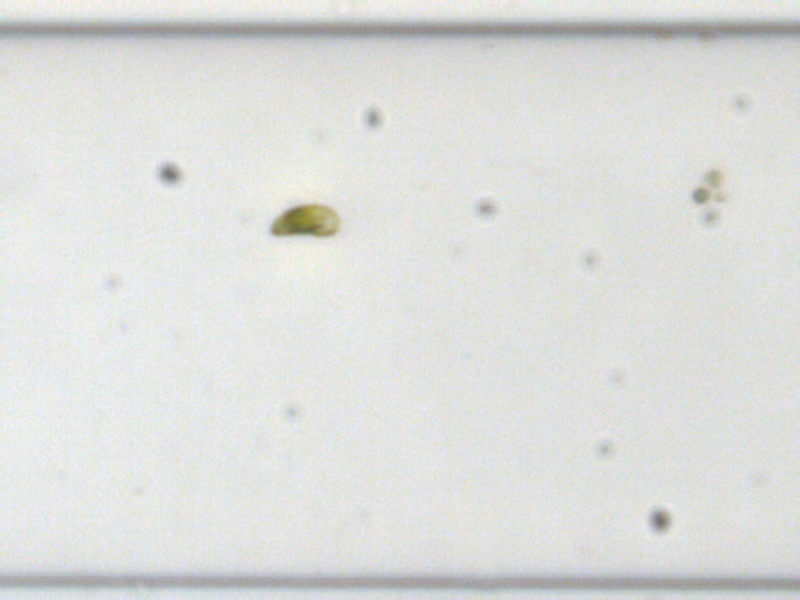Chlorella: (703, 166, 724, 184), (689, 184, 708, 202), (714, 186, 731, 203)
Platymonas: (266, 200, 341, 238)
